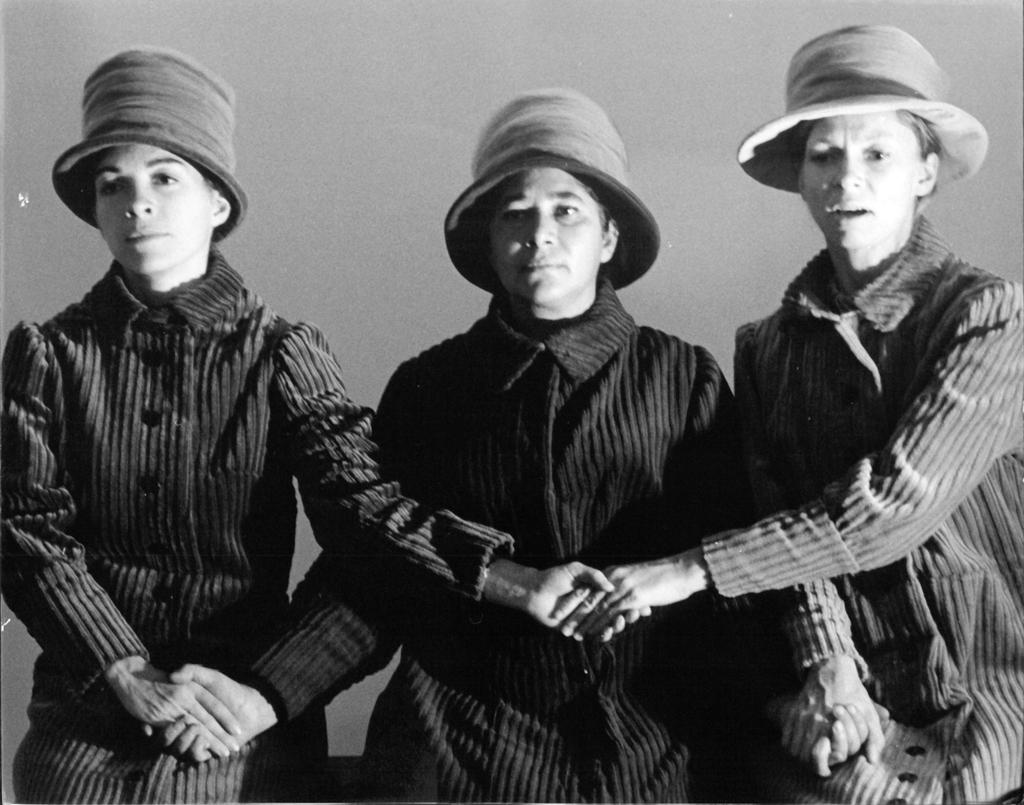Hat: (730, 18, 989, 211), (440, 84, 662, 298), (44, 44, 248, 242)
